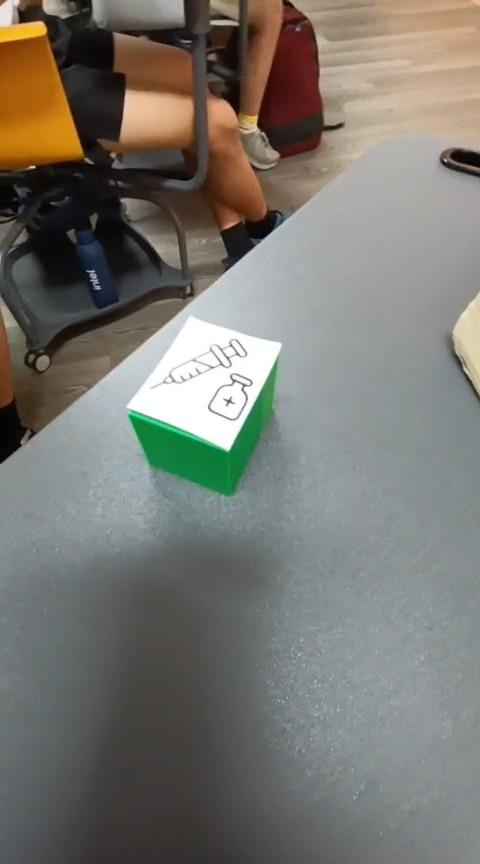antiseptic cream: (125, 313, 282, 496)
